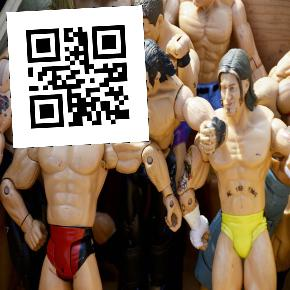qr_code: (6, 5, 149, 148)
